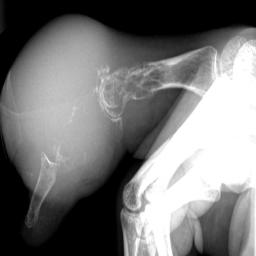cancer: (2, 15, 172, 202)
